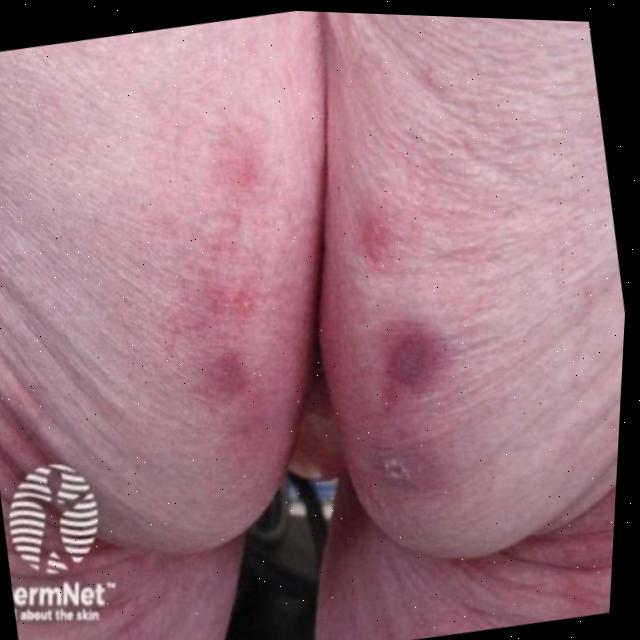Eczema: (151, 151, 284, 423), (341, 204, 472, 426)
